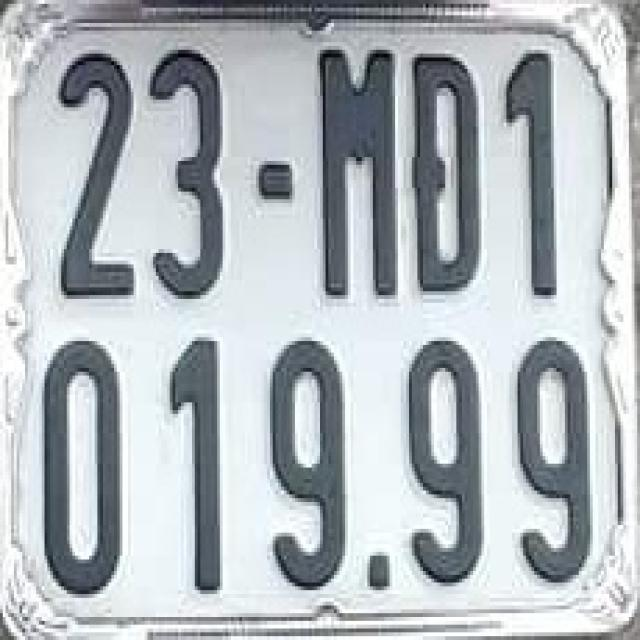0: (35, 328, 132, 600)
1: (162, 330, 236, 594), (500, 44, 569, 297)
2: (47, 38, 142, 303)
3: (146, 38, 232, 303)
9: (259, 328, 353, 592), (398, 328, 490, 588), (509, 328, 598, 584)
D: (409, 48, 487, 297)
M: (313, 36, 402, 301)
